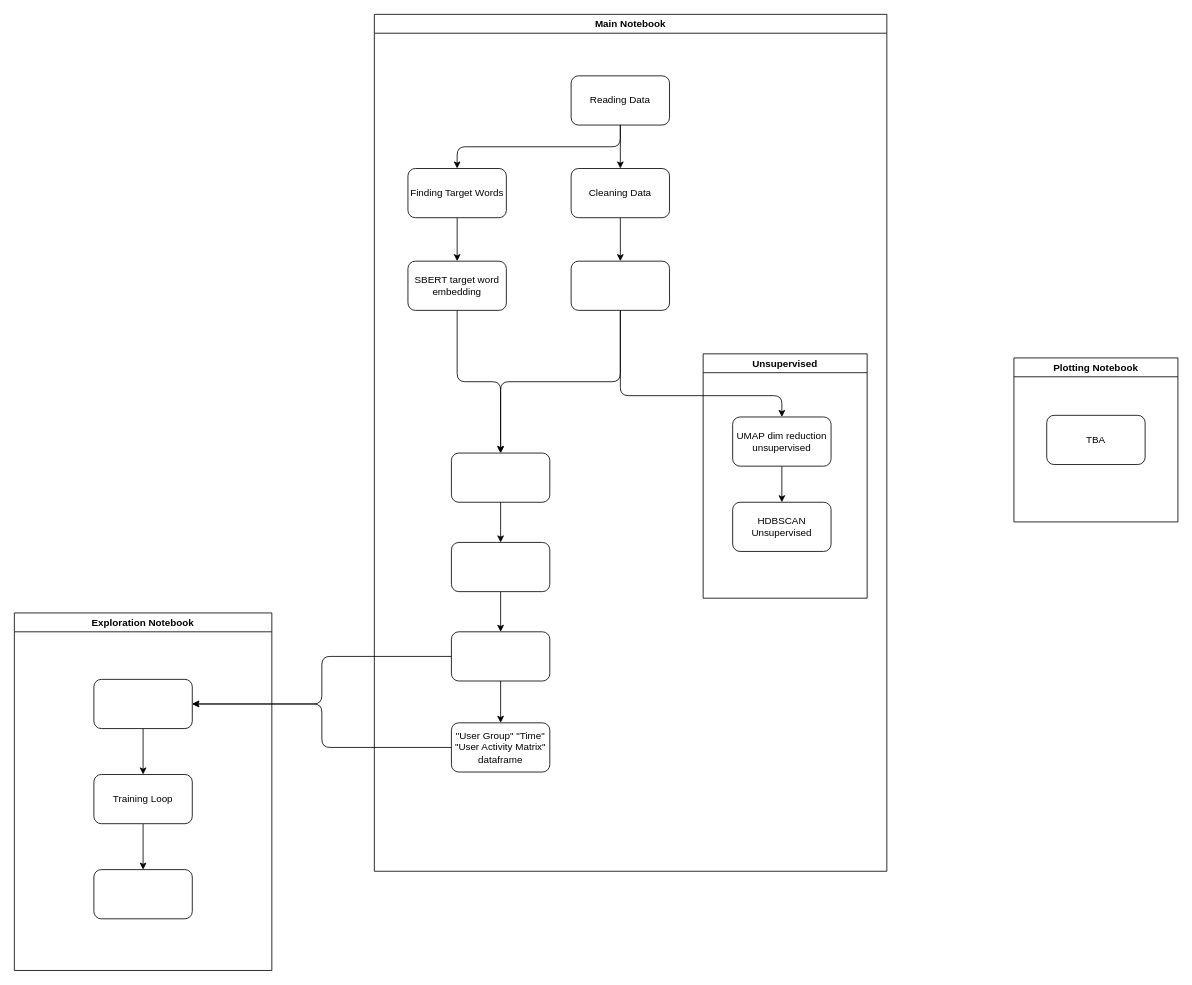
This 1192x985 diagram has some shape labels left out. The centre of each missing label's shape, as x and y in pixels:
"Custom Deep Learning Neural Net" goes at [142,704].
"SBERT user activity embedding" goes at [620,285].
"Semi supervised UMAP dim reduction" goes at [500,477].
"SemiSu User grouping" goes at [500,656].
"User - target_interest similarity and connection" goes at [500,567].
"User Group Interest Prediction" goes at [142,894].
